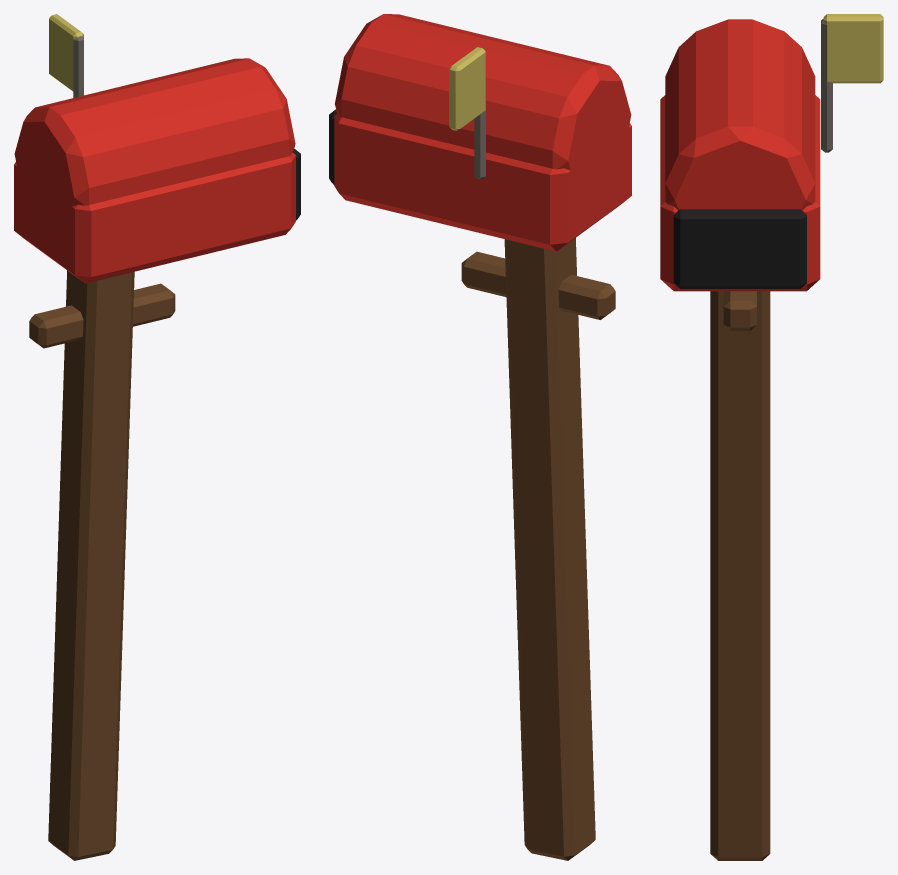
File: park_mailbox.glb
3 views of the same model, side by side, from view 1: azimuth 30°, elevation 25°; view 2: azimuth 150°, elevation 25°; view 3: azimuth 270°, elevation 25° (orthographic). The views are drawn at different scales.
Parts seen in each view (by area): view 1: park_mailbox; view 2: park_mailbox; view 3: park_mailbox.
Boxes of the visible parts, x1,y1,x2,y2 form: park_mailbox: (14,14,300,860); park_mailbox: (329,14,631,860); park_mailbox: (660,14,883,860).
Size of the model in its own units: 0.455 by 1.42 by 0.335.
